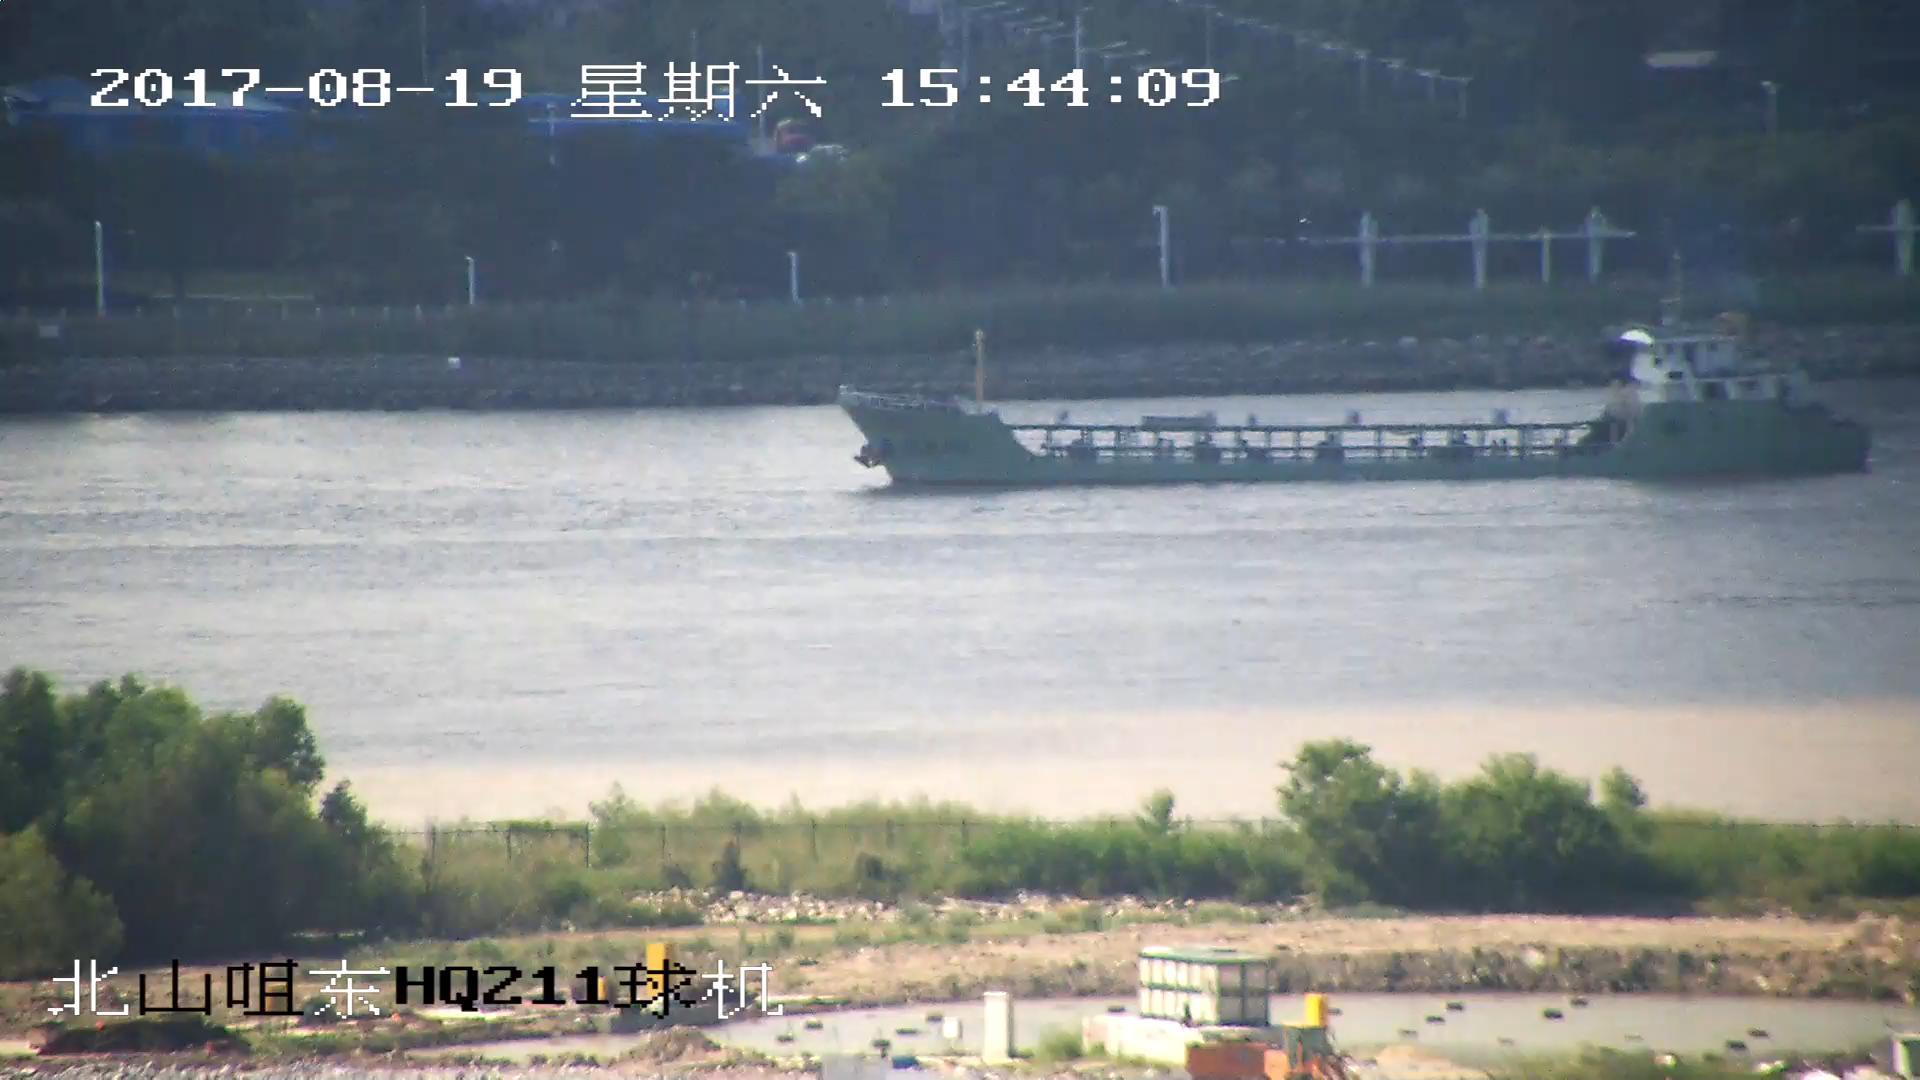Ship: (835, 291, 1878, 487)
